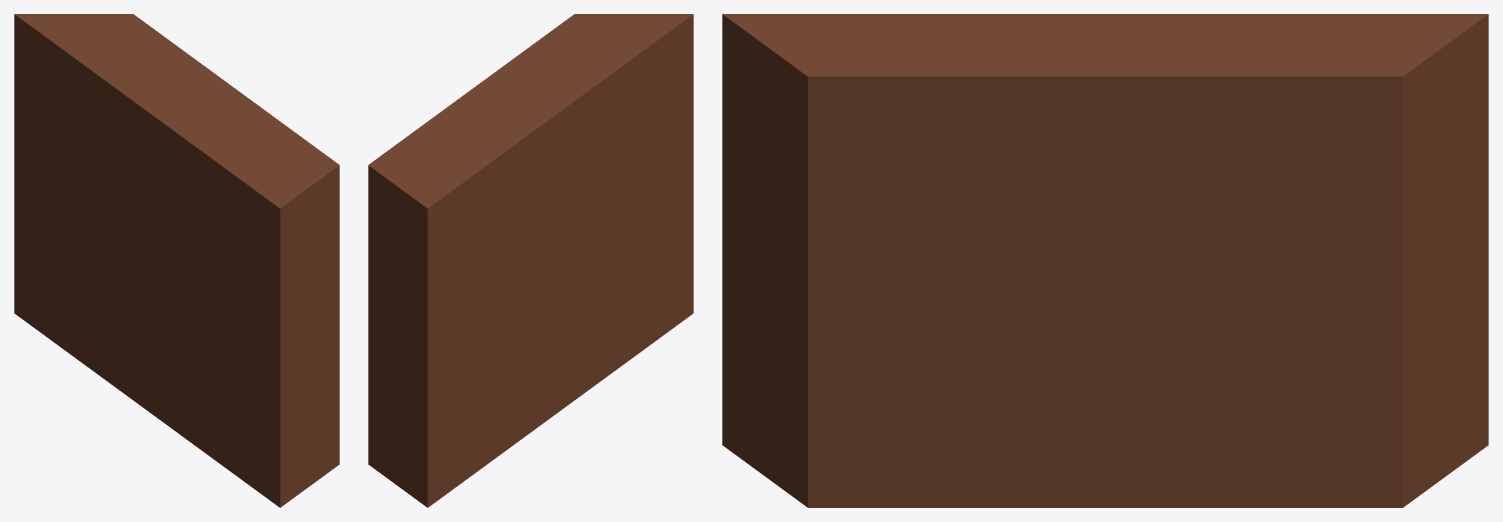
File: _wooden_wall_6_t.glb
The picture shows the model from 3 angles, left to right: view 1: azimuth 30°, elevation 25°; view 2: azimuth 150°, elevation 25°; view 3: azimuth 270°, elevation 25°; orthographic projection. The views are drawn at different scales.
Parts seen in each view (by area): view 1: WoodenWallShortTall; view 2: WoodenWallShortTall; view 3: WoodenWallShortTall.
Boxes of the visible parts, box(x1,y1,x2,y2) form: WoodenWallShortTall: box(14, 14, 339, 507); WoodenWallShortTall: box(368, 14, 693, 507); WoodenWallShortTall: box(722, 14, 1488, 507).
Size of the model in its own units: 0.25 by 0.8 by 1.29.
Materials: 1 (1 with a texture image).
